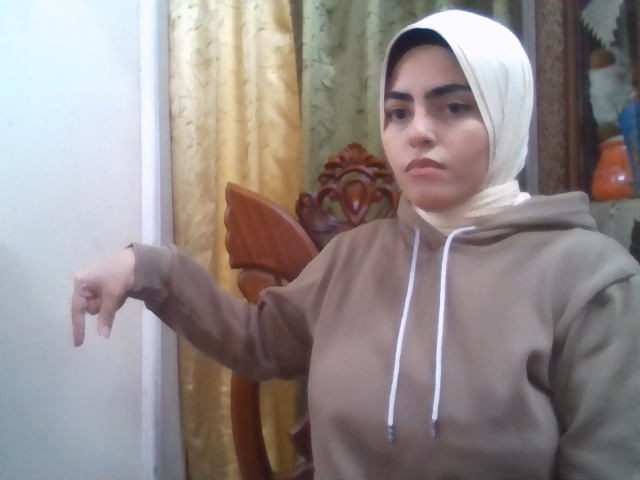Q: (71, 249, 133, 346)
